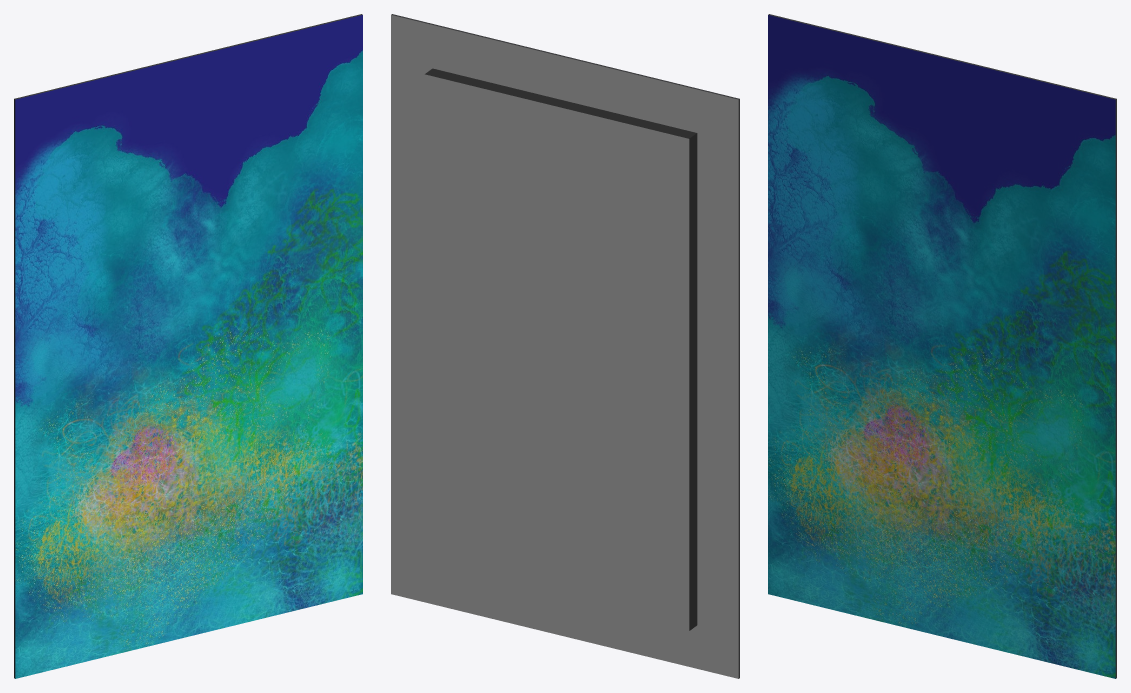
File: os031_moyen_dibond.glb
The picture shows the model from 3 angles, left to right: view 1: azimuth 30°, elevation 25°; view 2: azimuth 150°, elevation 25°; view 3: azimuth 330°, elevation 25°; orthographic projection.
Parts seen in each view (by area): view 1: os031_moyen_dibond; view 2: os031_moyen_dibond; view 3: os031_moyen_dibond.
Part boxes in pixels (x1,y1,x2,y2): os031_moyen_dibond: (14,14,362,678); os031_moyen_dibond: (391,14,739,678); os031_moyen_dibond: (768,14,1116,678).
Bounding box in the file's own units: 0.5024 × 0.8 × 0.023.
4 materials, 1 textured.
